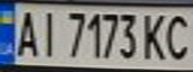1: (81, 9, 103, 58)
3: (118, 10, 142, 61)
7: (60, 8, 84, 59), (100, 10, 121, 60)
A: (9, 7, 42, 58)
C: (160, 10, 193, 61)
I: (33, 7, 60, 58)
K: (139, 10, 172, 61)
